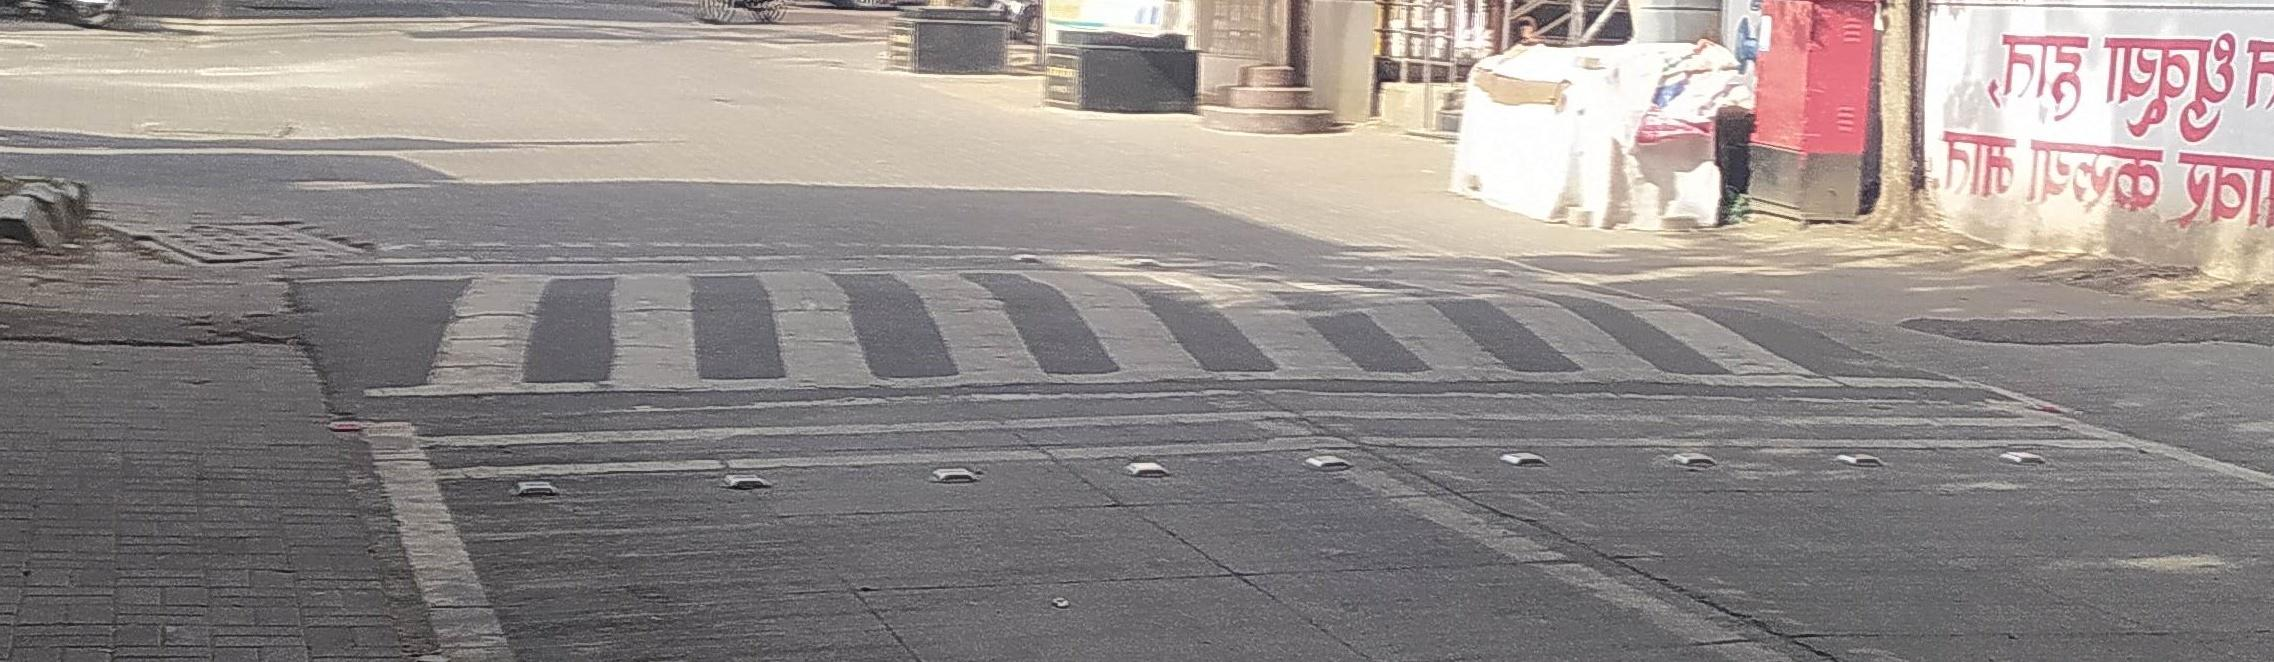speed-bump: (292, 249, 1965, 418)
